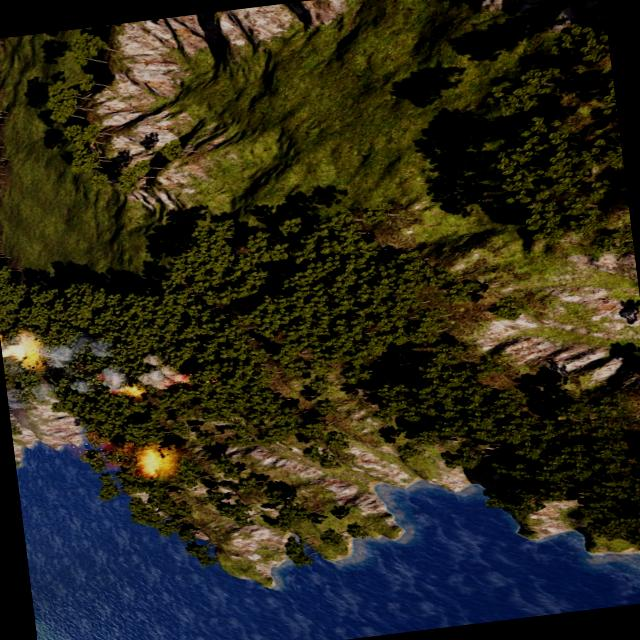fire: (138, 446, 167, 478), (0, 335, 30, 362)
smoke: (9, 318, 192, 410)
